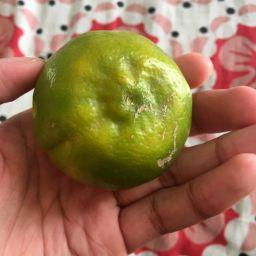Unripe: (33, 30, 193, 187)
